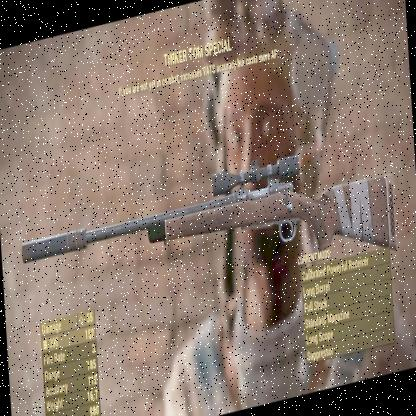rifle: (17, 141, 399, 335)
